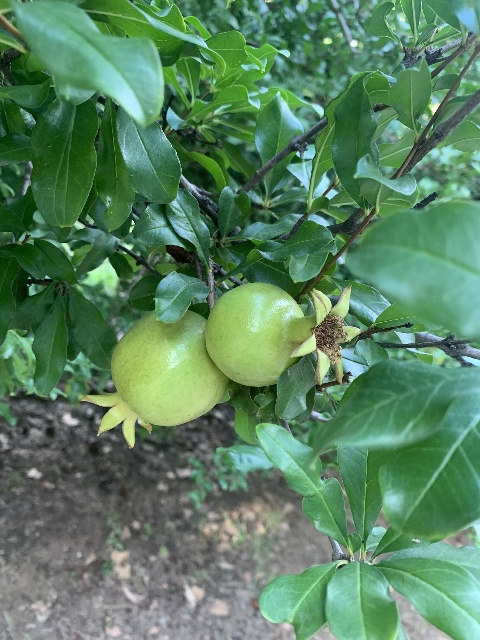mid-growth: (80, 308, 226, 449), (205, 281, 362, 386)
